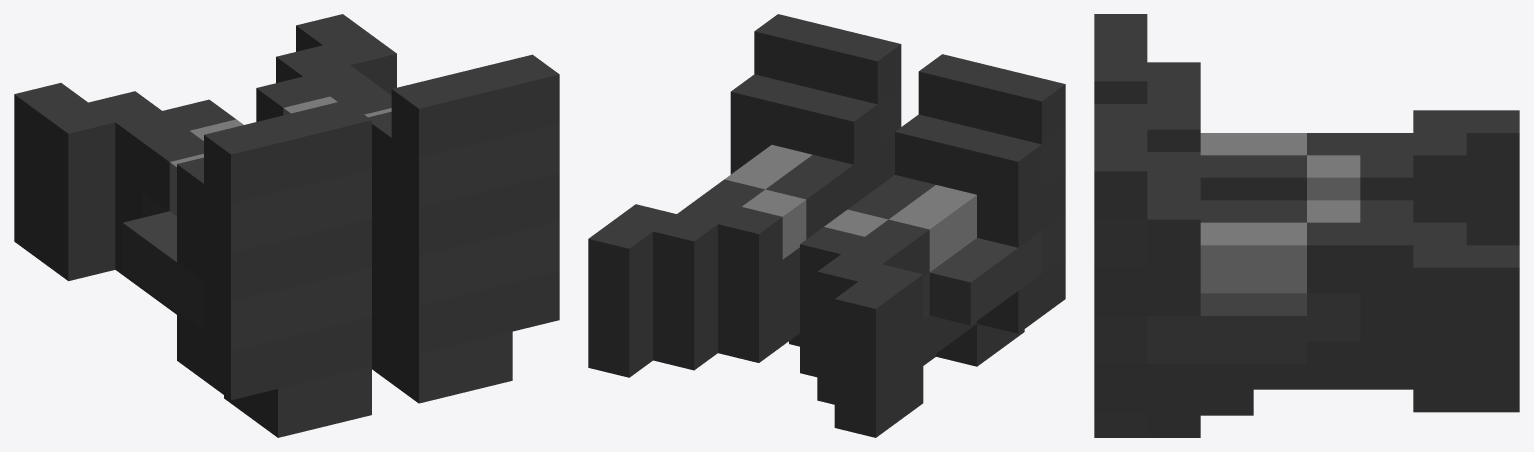
File: 210501bwrobot-0.obj
3 renders of one model, left to right at view 1: azimuth 30°, elevation 25°; view 2: azimuth 150°, elevation 25°; view 3: azimuth 270°, elevation 25°, orthographic. The views are drawn at different scales.
Size of the model in its own units: 0.7 by 0.6 by 0.8.
Materials: 1 (1 with a texture image).
